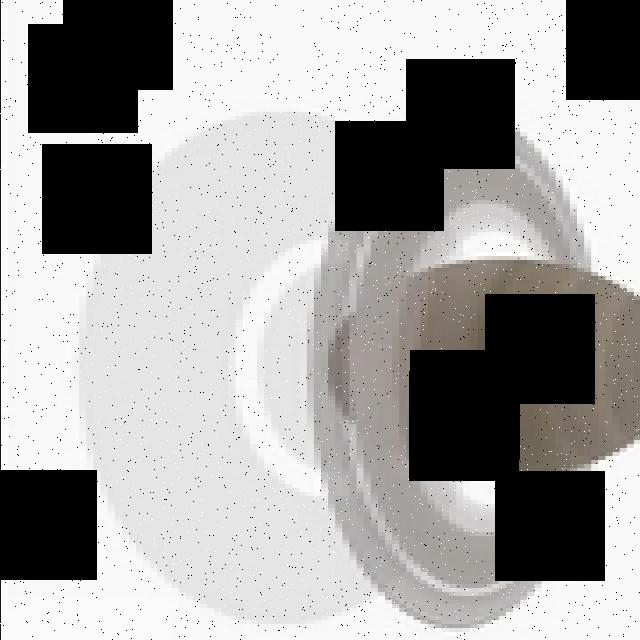Saturn: (306, 104, 640, 628)
